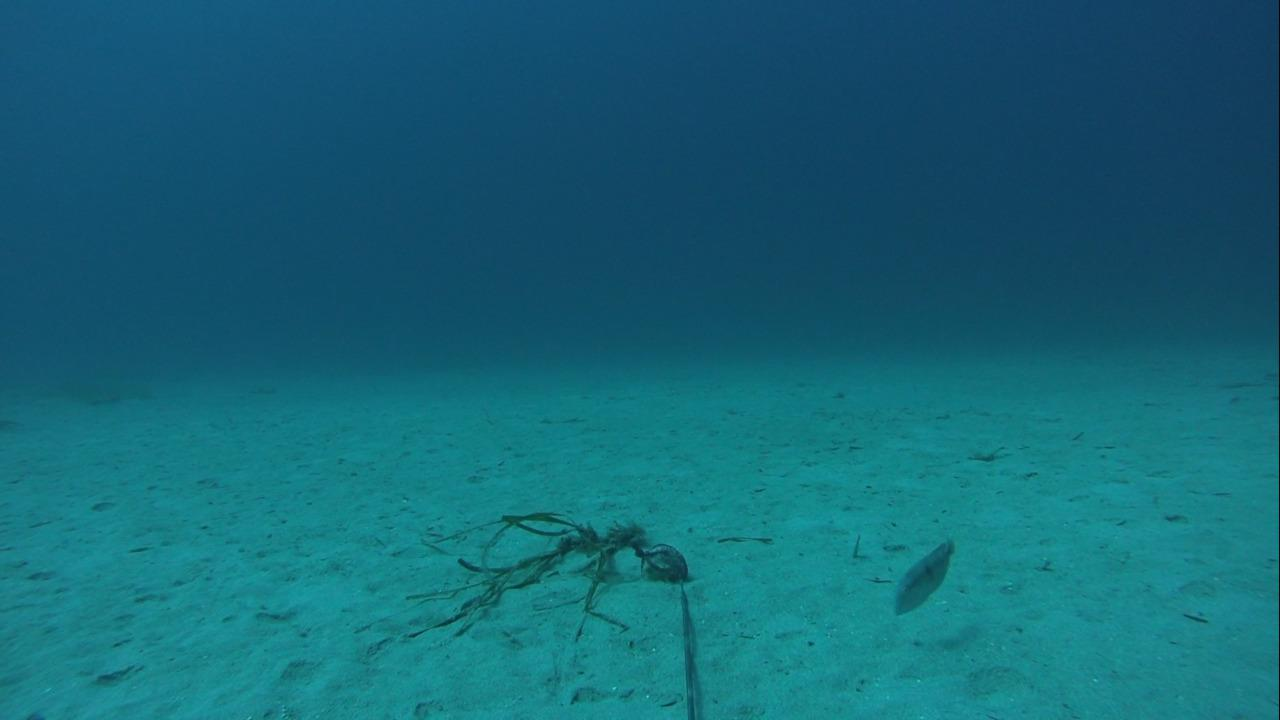raor: (890, 536, 959, 616)
